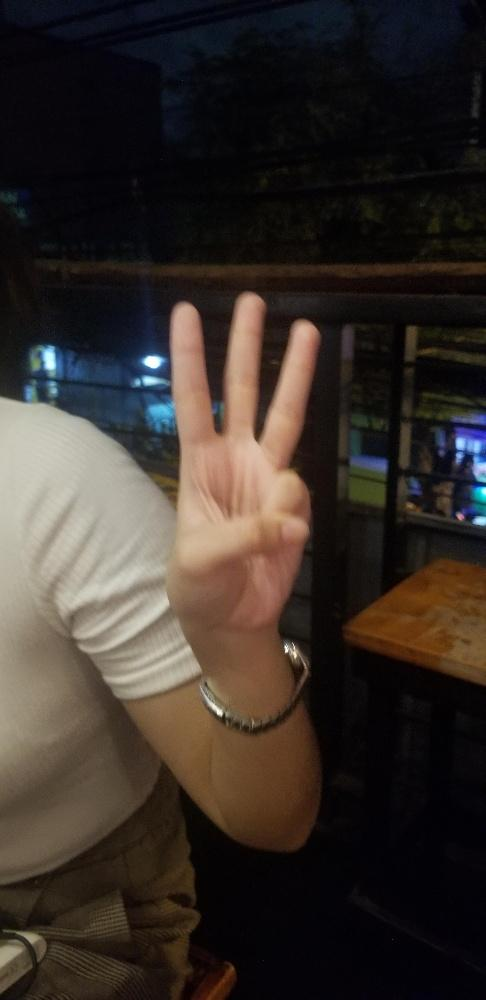w: (164, 287, 318, 613)
